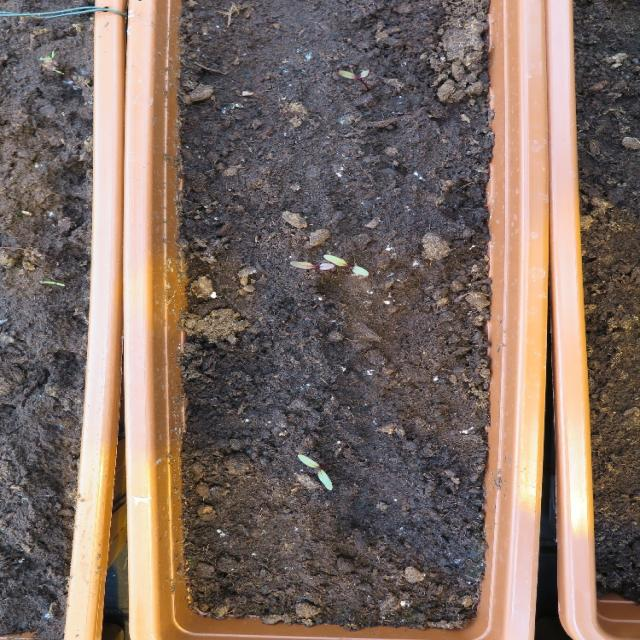crop: (295, 452, 332, 491), (336, 66, 370, 82)
weed: (39, 278, 65, 287)
